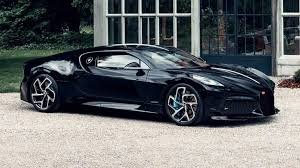mobil: (21, 42, 285, 127)
